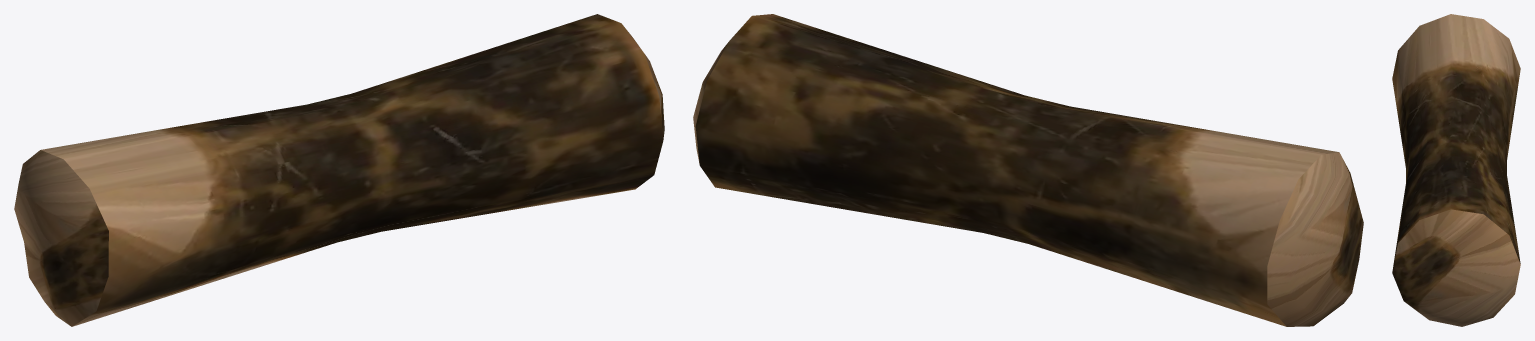
3 renders of one model, left to right at view 1: azimuth 30°, elevation 25°; view 2: azimuth 150°, elevation 25°; view 3: azimuth 270°, elevation 25°, orthographic. The views are drawn at different scales.
Parts seen in each view (by area): view 1: SM_Scorch_Leather_01_LOD0; view 2: SM_Scorch_Leather_01_LOD0; view 3: SM_Scorch_Leather_01_LOD0.
Boxes of the visible parts, x1,y1,x2,y2 form: SM_Scorch_Leather_01_LOD0: (14, 14, 664, 326); SM_Scorch_Leather_01_LOD0: (693, 14, 1363, 326); SM_Scorch_Leather_01_LOD0: (1392, 14, 1520, 326).
Bounding box in the file's own units: 0.4592 × 0.1195 × 0.1195.
